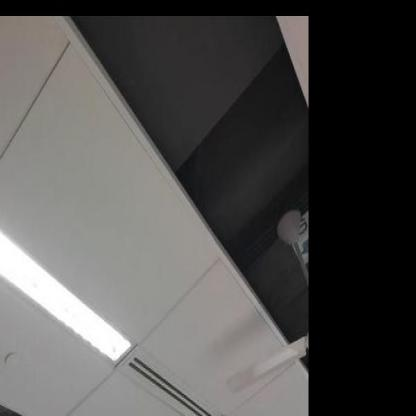light_on: (0, 197, 141, 384)
